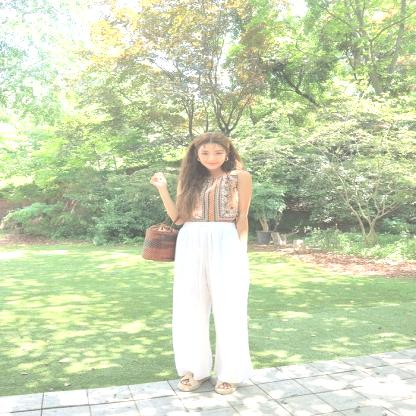dress: (174, 223, 254, 381)
jacket: (186, 170, 240, 224)
